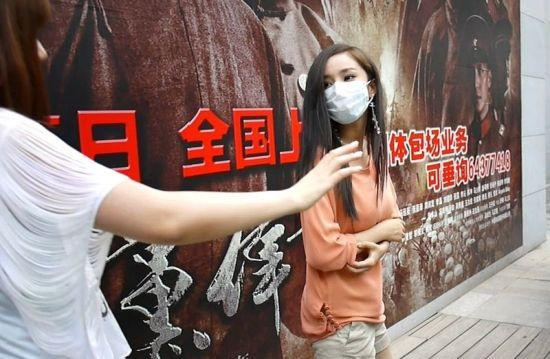OK: (316, 65, 374, 123)
